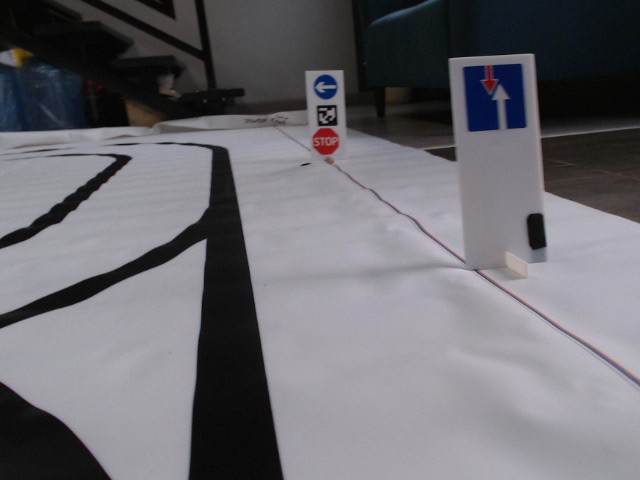Stop: (311, 126, 340, 156)
priority_movement: (459, 62, 529, 134)
